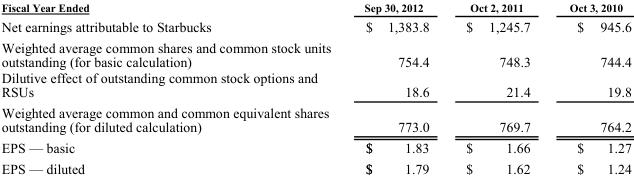table: (0, 1, 630, 175)
table column: (0, 1, 346, 175), (446, 1, 549, 175), (346, 1, 446, 175), (549, 1, 630, 175)
table column header: (0, 1, 630, 16)
table row: (0, 102, 630, 136), (0, 69, 630, 102), (0, 37, 630, 69), (0, 16, 630, 37), (0, 136, 630, 157), (0, 157, 630, 175), (0, 1, 630, 16)
